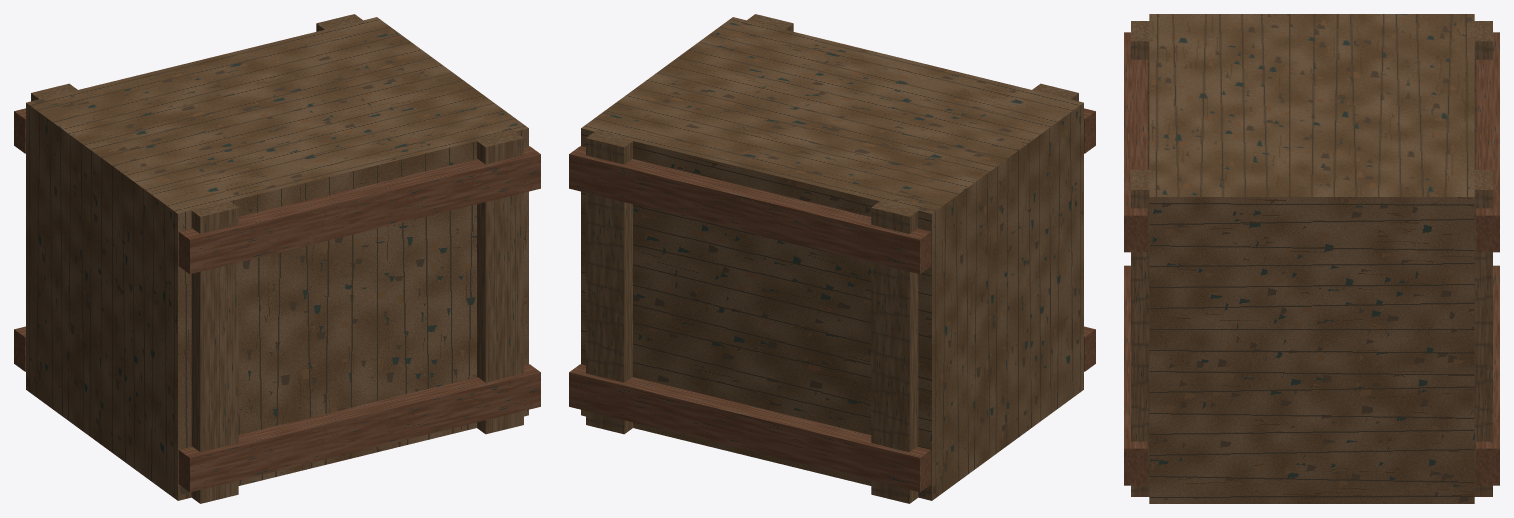
File: Crate.glb
3 renders of one model, left to right at view 1: azimuth 30°, elevation 25°; view 2: azimuth 150°, elevation 25°; view 3: azimuth 270°, elevation 25°, orthographic. The views are drawn at different scales.
Parts seen in each view (by area): view 1: Crate; view 2: Crate; view 3: Crate.
Part boxes in pixels (x1,y1,x2,y2): Crate: (14,14,540,503); Crate: (569,14,1095,503); Crate: (1124,14,1499,503).
Size of the model in its own units: 0.64 by 0.5 by 0.555.
2 materials, 2 textured.
